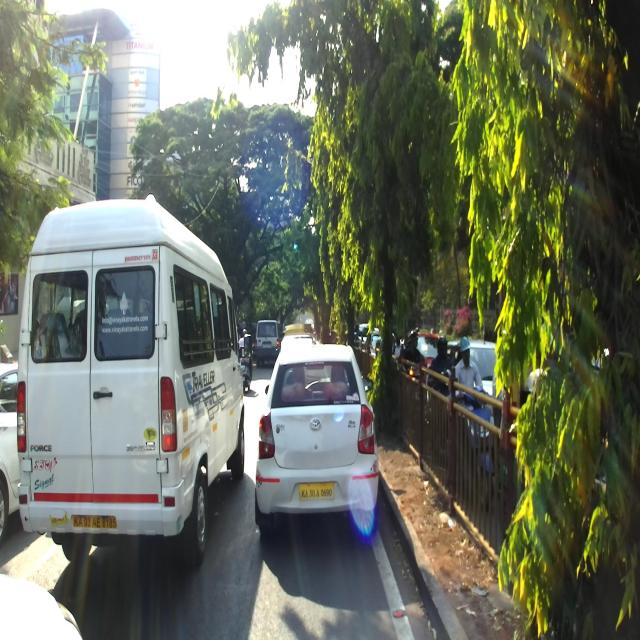autorickshaw: (282, 324, 314, 336)
bus: (15, 188, 252, 566)
car: (254, 342, 378, 542), (0, 574, 81, 640), (447, 336, 506, 426), (0, 359, 24, 545), (256, 320, 280, 366), (280, 334, 316, 348)
scooter: (450, 384, 497, 504), (240, 352, 252, 391)
